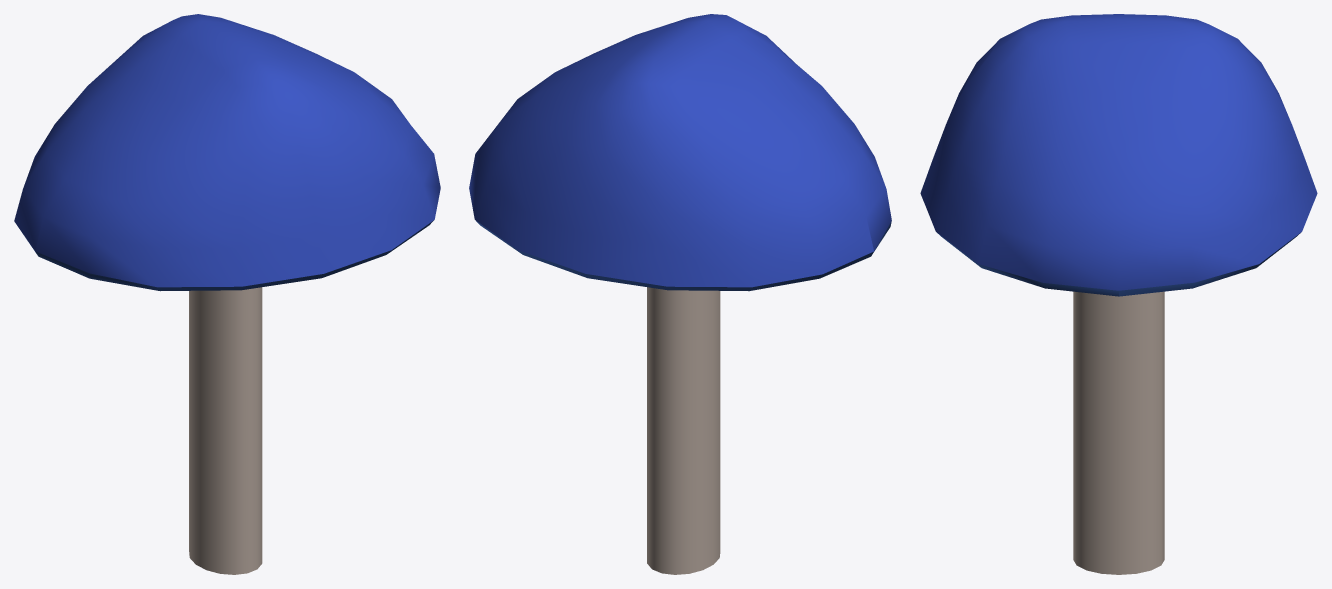
The model's file is mushtree.fbx.
3 renders of one model, left to right at view 1: azimuth 30°, elevation 25°; view 2: azimuth 150°, elevation 25°; view 3: azimuth 270°, elevation 25°, orthographic. The views are drawn at different scales.
Visible parts, largest first — view 1: Cylinder; view 2: Cylinder; view 3: Cylinder.
Boxes of the visible parts, x1,y1,x2,y2 form: Cylinder: (14, 14, 440, 574); Cylinder: (469, 14, 891, 574); Cylinder: (920, 14, 1317, 574).
Bounding box in the file's own units: 389 × 501 × 333.
